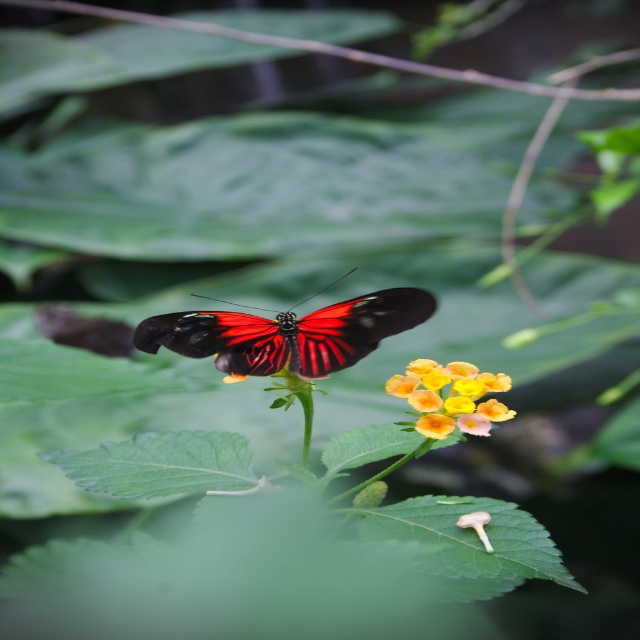Butterfly: (130, 268, 440, 374)
